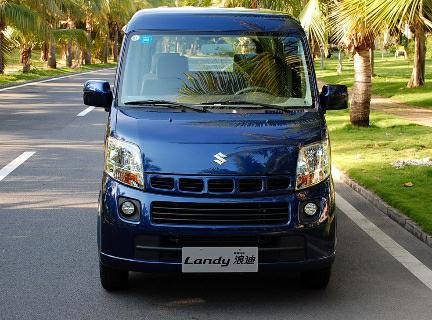铃木-浪迪: (78, 8, 352, 302)
